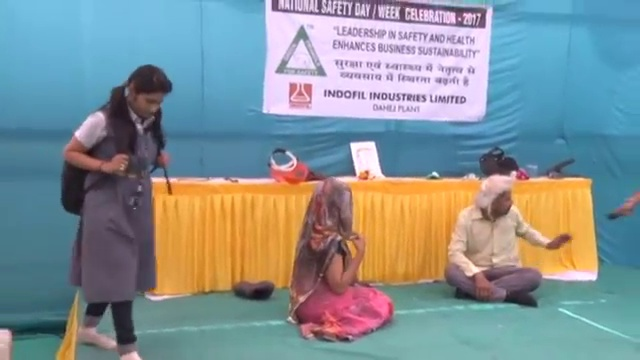helmet_off: (123, 62, 173, 122), (306, 179, 355, 236), (477, 176, 515, 216)
person: (55, 61, 174, 360), (287, 180, 395, 343), (444, 177, 573, 311)
